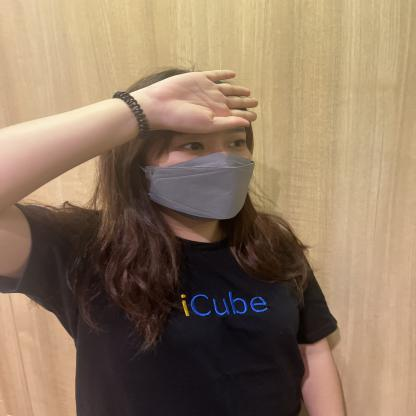Sick: (58, 58, 292, 139)
